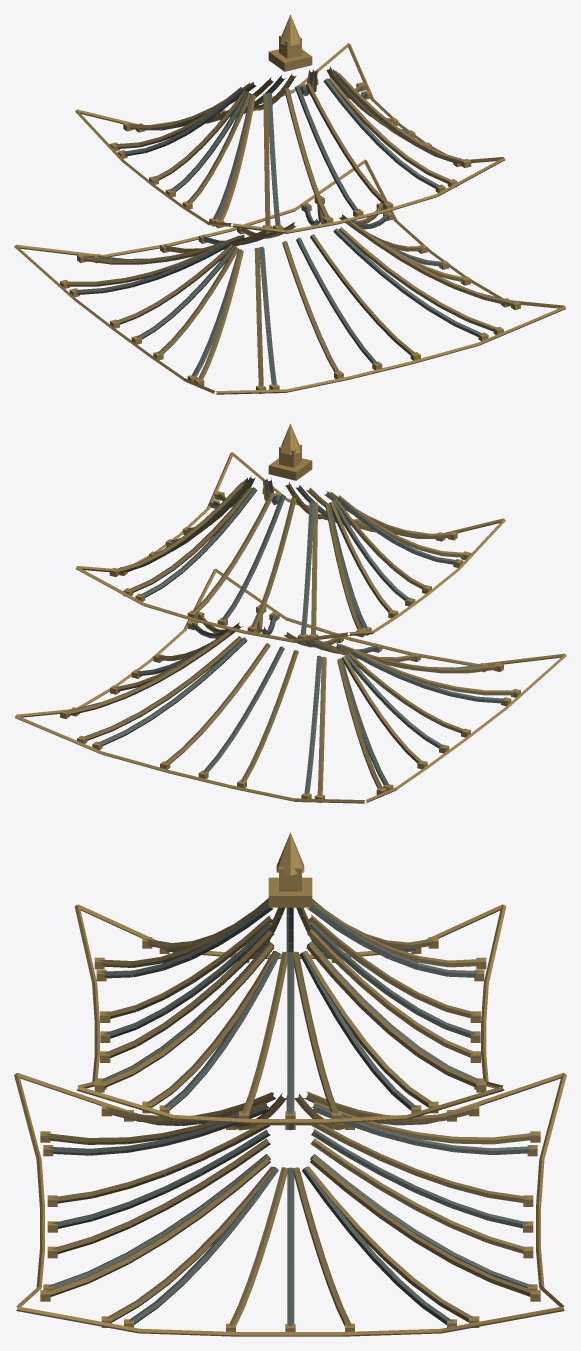
Rendered from capitals.glb.
3 renders of one model, top to bottom at view 1: azimuth 30°, elevation 25°; view 2: azimuth 150°, elevation 25°; view 3: azimuth 270°, elevation 25°, orthographic. The views are drawn at different scales.
Parts seen in each view (by area): view 1: Kaifeng, Yanjing; view 2: Kaifeng, Yanjing; view 3: Kaifeng, Yanjing.
Boxes of the visible parts, x1=… form: Kaifeng: x1=14, y1=14, x2=565, y2=394; Yanjing: x1=69, y1=67, x2=510, y2=389; Kaifeng: x1=15, y1=423, x2=566, y2=803; Yanjing: x1=70, y1=477, x2=511, y2=798; Kaifeng: x1=14, y1=832, x2=566, y2=1336; Yanjing: x1=43, y1=904, x2=537, y2=1331.
Bounding box in the file's own units: 3.85 × 3.03 × 3.81.
